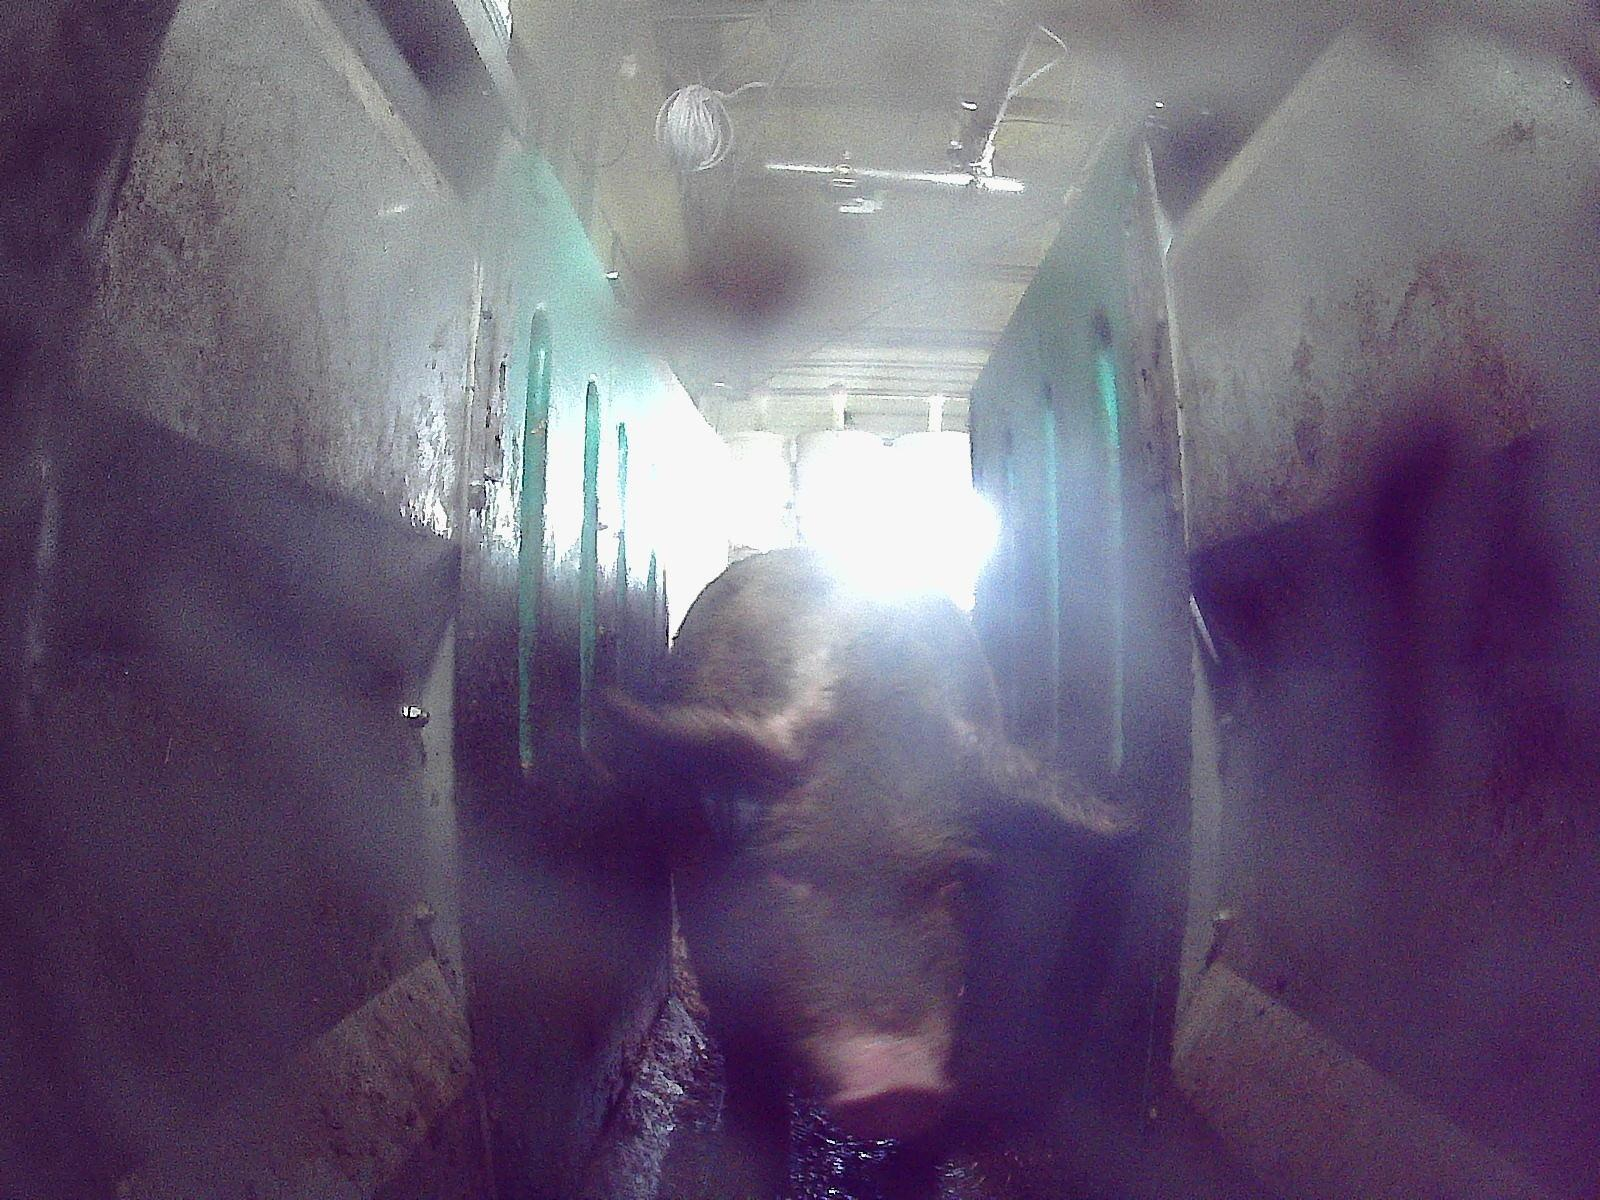Face: (684, 693, 996, 1148)
